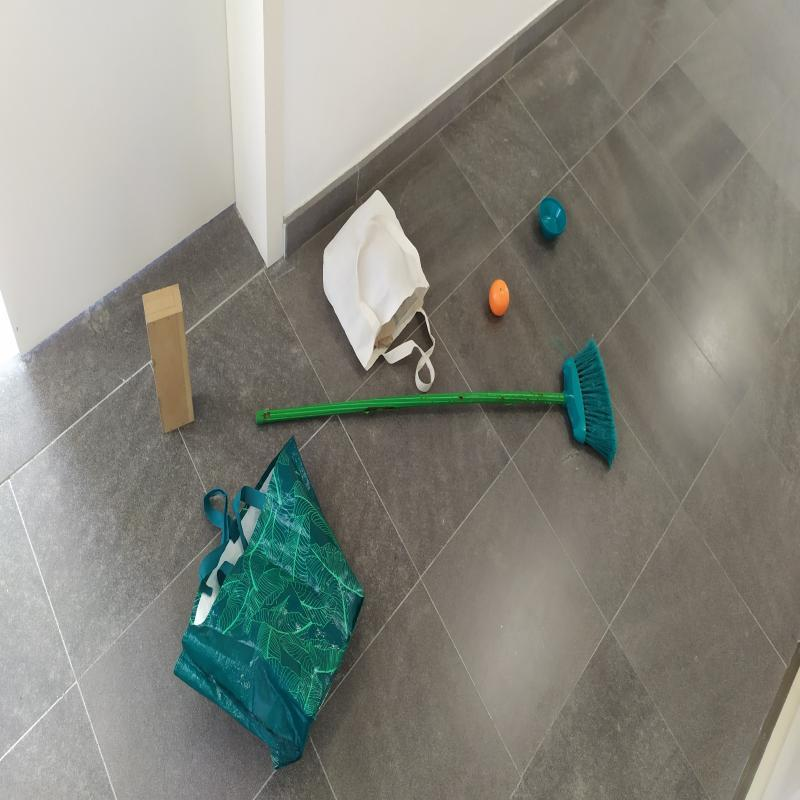Bag: (178, 434, 366, 780), (324, 185, 435, 400)
Bowl: (539, 194, 566, 236)
Orange: (487, 276, 511, 318)
